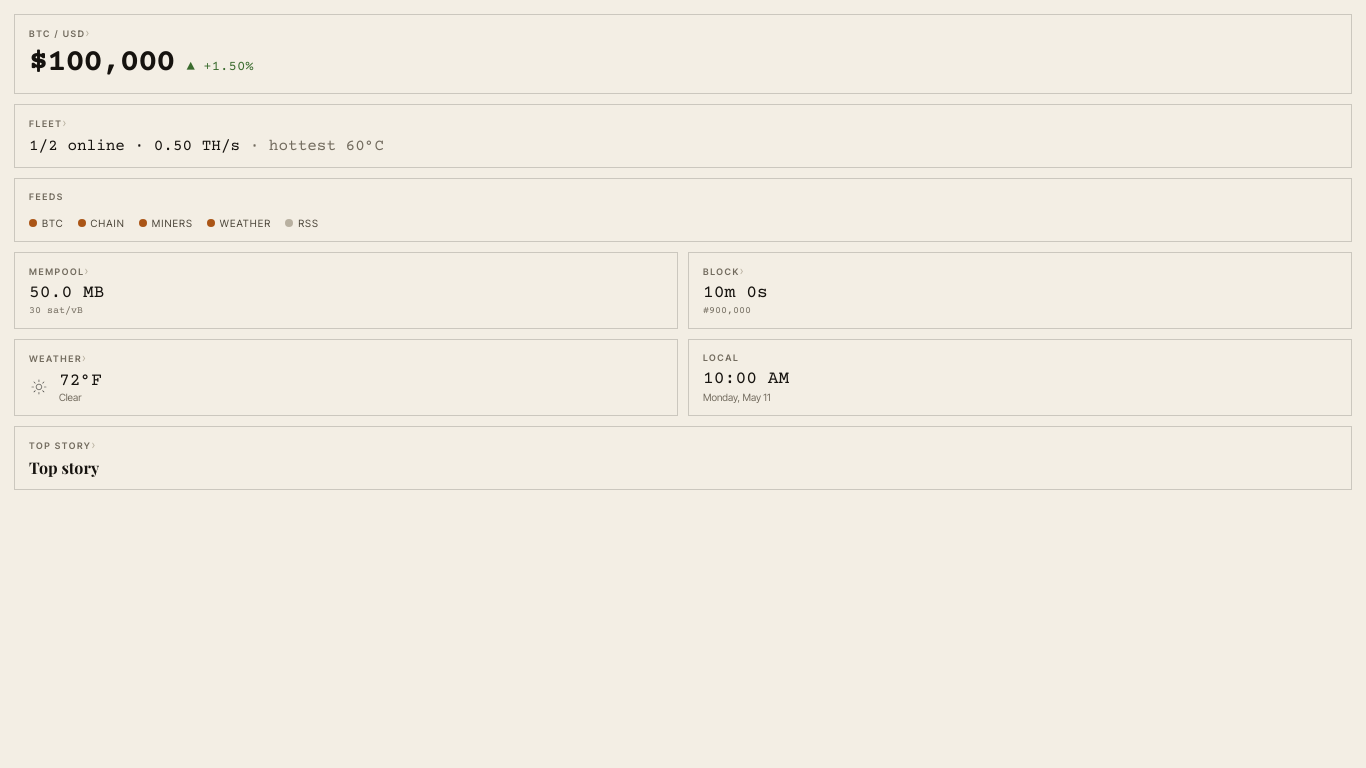
HomePanel › clicking expanded weather tile collapses detail
This screenshot has width=1366, height=768.
What coordinates should you click on to do the following:
click the button with aria-label "expand weather"
I would click on:
 (56, 358)
Its box is left=14, top=339, right=678, bottom=416.
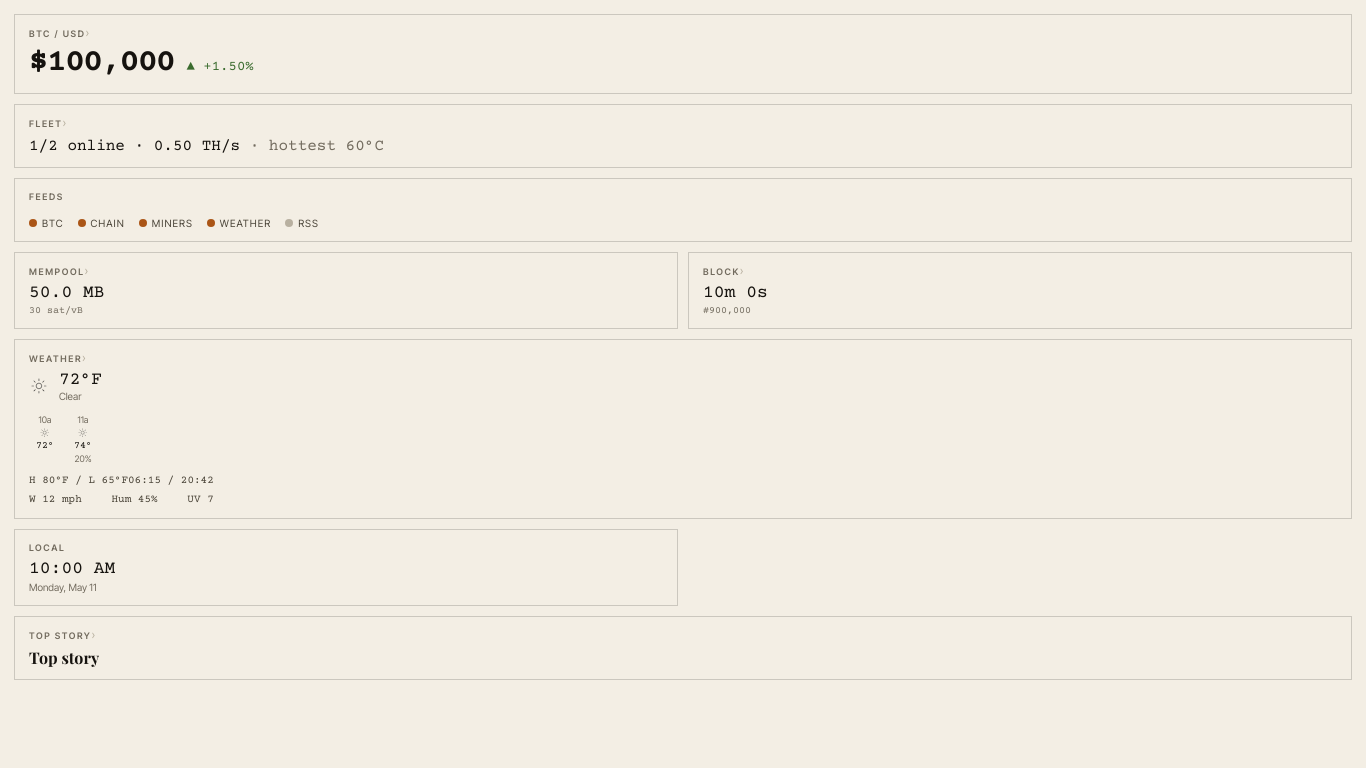
What coordinates should you click on to do the following:
click the button with aria-label "collapse weather"
I would click on:
 (683, 429)
Its box is left=14, top=339, right=1352, bottom=519.
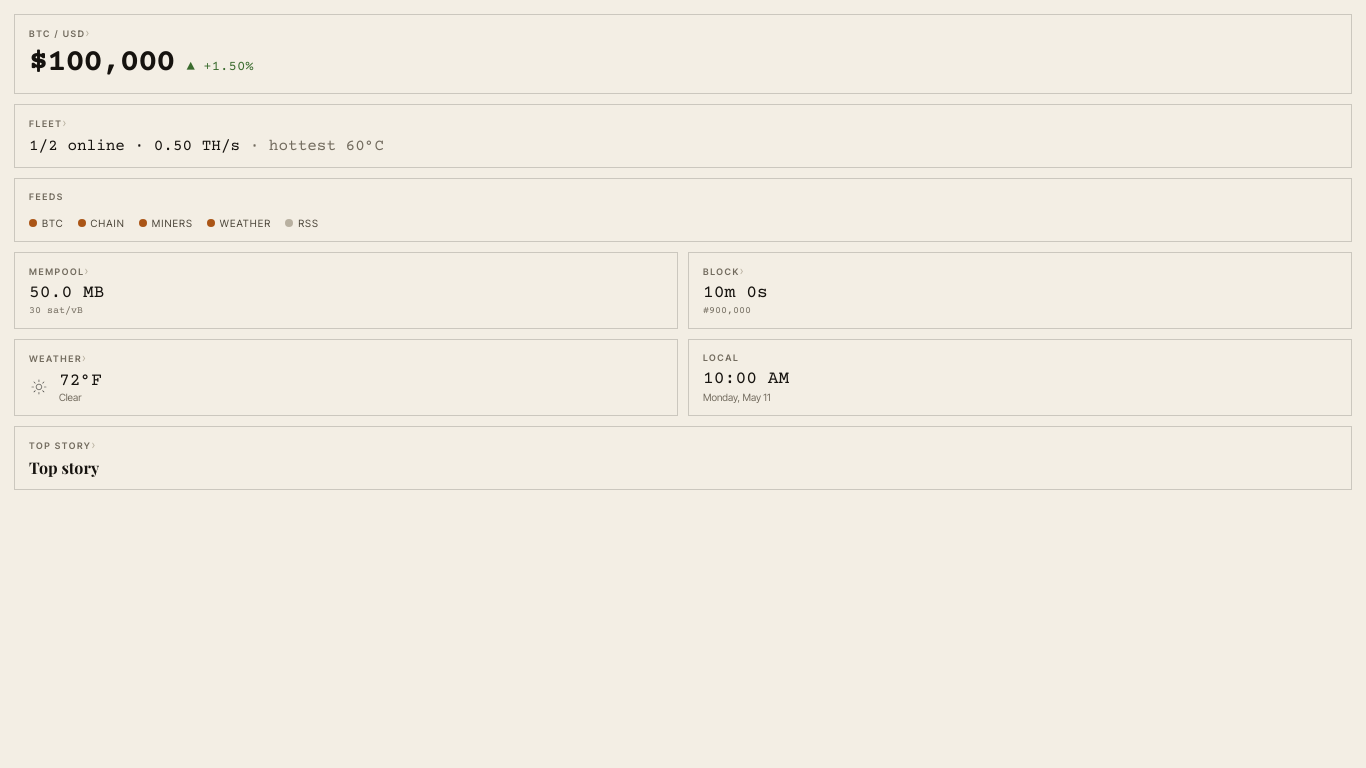
Expected: the text "W 12 mph" is gone
